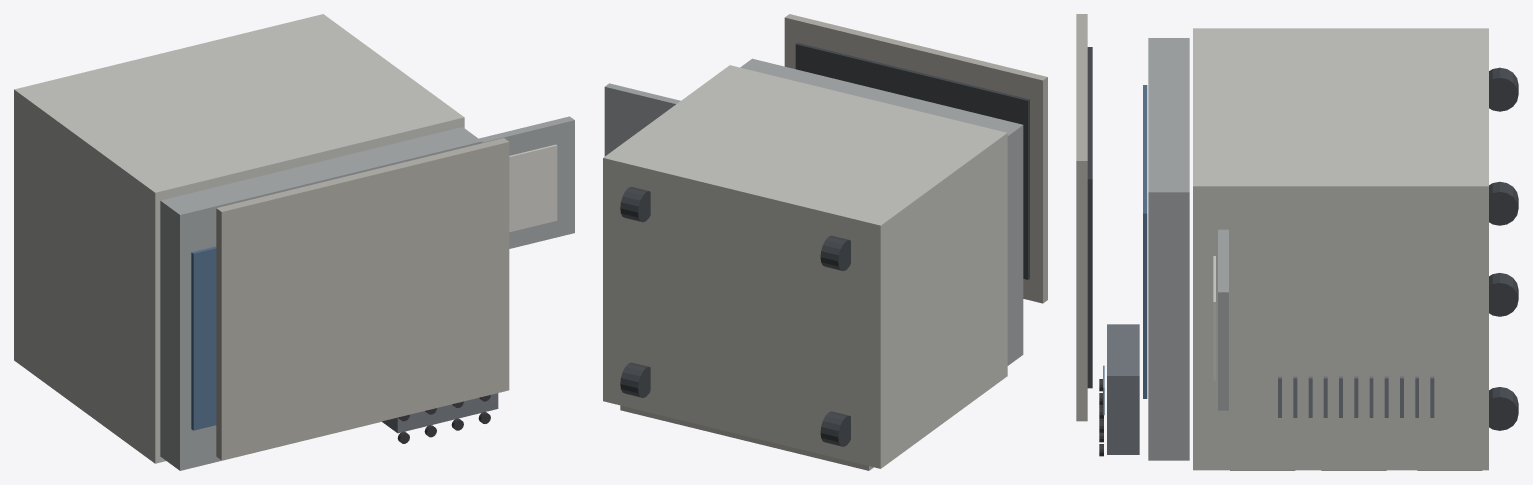
The picture shows the model from 3 angles, left to right: view 1: azimuth 30°, elevation 25°; view 2: azimuth 150°, elevation 25°; view 3: azimuth 270°, elevation 25°; orthographic projection. The views are drawn at different scales.
Parts seen in each view (by area): view 1: PR-005_000_CopierMainCastHousing_painted_ivory, PR-005_003_OpenScannerLid_aged_white, PR-005_001_HingedScannerDeck_stainless, PR-005_002_FlatbedGlass_glass, PR-005_021_SideOutputFeeder_stainless, PR-005_022_ExitPaper_paper, PR-005_011_OperationsControlConsole_steel_dark; view 2: PR-005_000_CopierMainCastHousing_painted_ivory, PR-005_003_OpenScannerLid_aged_white, PR-005_004_ScannerLidBlackSeal_rubber, PR-005_001_HingedScannerDeck_stainless, PR-005_021_SideOutputFeeder_stainless, PR-005_005_Drawer_0_Recessed_aged_white, PR-005_024_RubberWheel_rubber, PR-005_026_RubberWheel_rubber, PR-005_023_RubberWheel_rubber, PR-005_025_RubberWheel_rubber; view 3: PR-005_000_CopierMainCastHousing_painted_ivory, PR-005_001_HingedScannerDeck_stainless, PR-005_003_OpenScannerLid_aged_white, PR-005_011_OperationsControlConsole_steel_dark, PR-005_004_ScannerLidBlackSeal_rubber, PR-005_021_SideOutputFeeder_stainless, PR-005_002_FlatbedGlass_glass, PR-005_026_RubberWheel_rubber, PR-005_025_RubberWheel_rubber, PR-005_023_RubberWheel_rubber, PR-005_024_RubberWheel_rubber.
Part boxes in pixels (x1,y1,x2,y2): PR-005_000_CopierMainCastHousing_painted_ivory: (14,14,464,463); PR-005_003_OpenScannerLid_aged_white: (216,138,509,460); PR-005_001_HingedScannerDeck_stainless: (160,127,482,470); PR-005_002_FlatbedGlass_glass: (191,246,216,430); PR-005_021_SideOutputFeeder_stainless: (479,116,574,248); PR-005_022_ExitPaper_paper: (509,144,557,232); PR-005_011_OperationsControlConsole_steel_dark: (382,393,498,433); PR-005_000_CopierMainCastHousing_painted_ivory: (603,65,1007,468); PR-005_003_OpenScannerLid_aged_white: (784,14,1047,303); PR-005_004_ScannerLidBlackSeal_rubber: (795,42,1029,279); PR-005_001_HingedScannerDeck_stainless: (740,58,1023,365); PR-005_021_SideOutputFeeder_stainless: (604,83,680,156); PR-005_005_Drawer_0_Recessed_aged_white: (620,405,873,470); PR-005_024_RubberWheel_rubber: (620,362,650,397); PR-005_026_RubberWheel_rubber: (620,186,650,222); PR-005_023_RubberWheel_rubber: (820,411,850,446); PR-005_025_RubberWheel_rubber: (820,235,850,270); PR-005_000_CopierMainCastHousing_painted_ivory: (1193,28,1488,470); PR-005_001_HingedScannerDeck_stainless: (1148,38,1189,460); PR-005_003_OpenScannerLid_aged_white: (1076,14,1087,421); PR-005_011_OperationsControlConsole_steel_dark: (1107,324,1139,454); PR-005_004_ScannerLidBlackSeal_rubber: (1087,47,1092,388); PR-005_021_SideOutputFeeder_stainless: (1218,229,1228,410); PR-005_002_FlatbedGlass_glass: (1143,85,1147,398); PR-005_026_RubberWheel_rubber: (1489,181,1518,225); PR-005_025_RubberWheel_rubber: (1489,67,1518,111); PR-005_023_RubberWheel_rubber: (1489,273,1518,316); PR-005_024_RubberWheel_rubber: (1489,387,1518,430).
Bounding box in the file's own units: 1.2 × 0.805 × 1.02.
